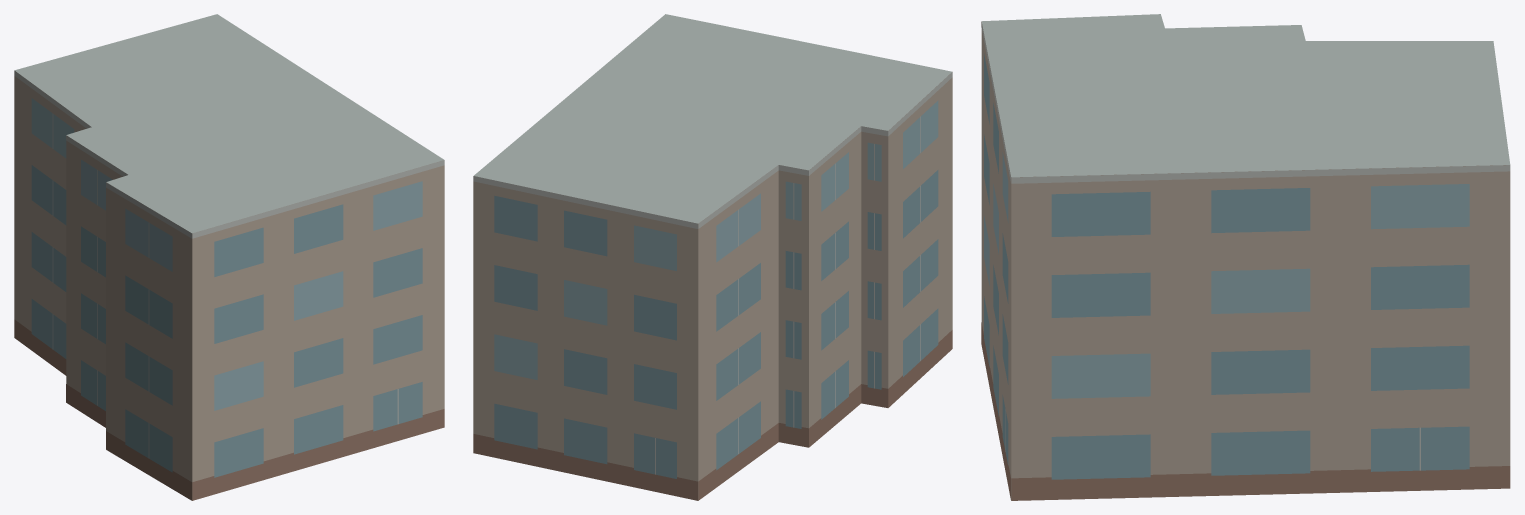
File: survey-upis-32526000.glb
The picture shows the model from 3 angles, left to right: view 1: azimuth 30°, elevation 25°; view 2: azimuth 150°, elevation 25°; view 3: azimuth 270°, elevation 25°; orthographic projection. The views are drawn at different scales.
Visible parts, largest first — view 1: survey-upis-32526000.tmp; view 2: survey-upis-32526000.tmp; view 3: survey-upis-32526000.tmp.
Part boxes in pixels (x1=…): survey-upis-32526000.tmp: x1=14, y1=14, x2=444, y2=500; survey-upis-32526000.tmp: x1=473, y1=14, x2=952, y2=500; survey-upis-32526000.tmp: x1=981, y1=14, x2=1510, y2=500.
Size of the model in its own units: 13.22 by 12.2 by 18.08.
